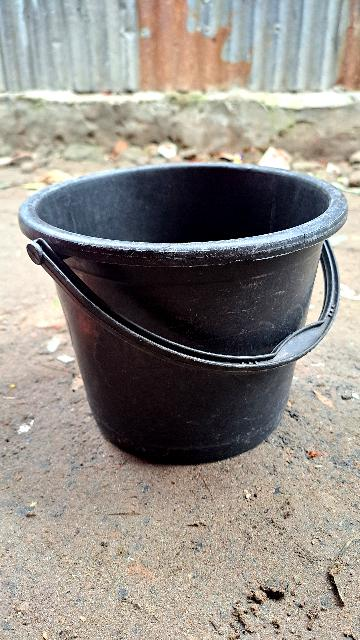hardplastic: (38, 165, 341, 458)
